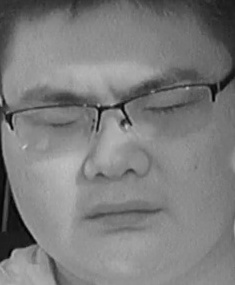blink: (147, 98, 190, 114), (47, 115, 77, 130)
glass: (120, 83, 215, 136), (8, 104, 102, 153)
mouth: (82, 193, 157, 231)
